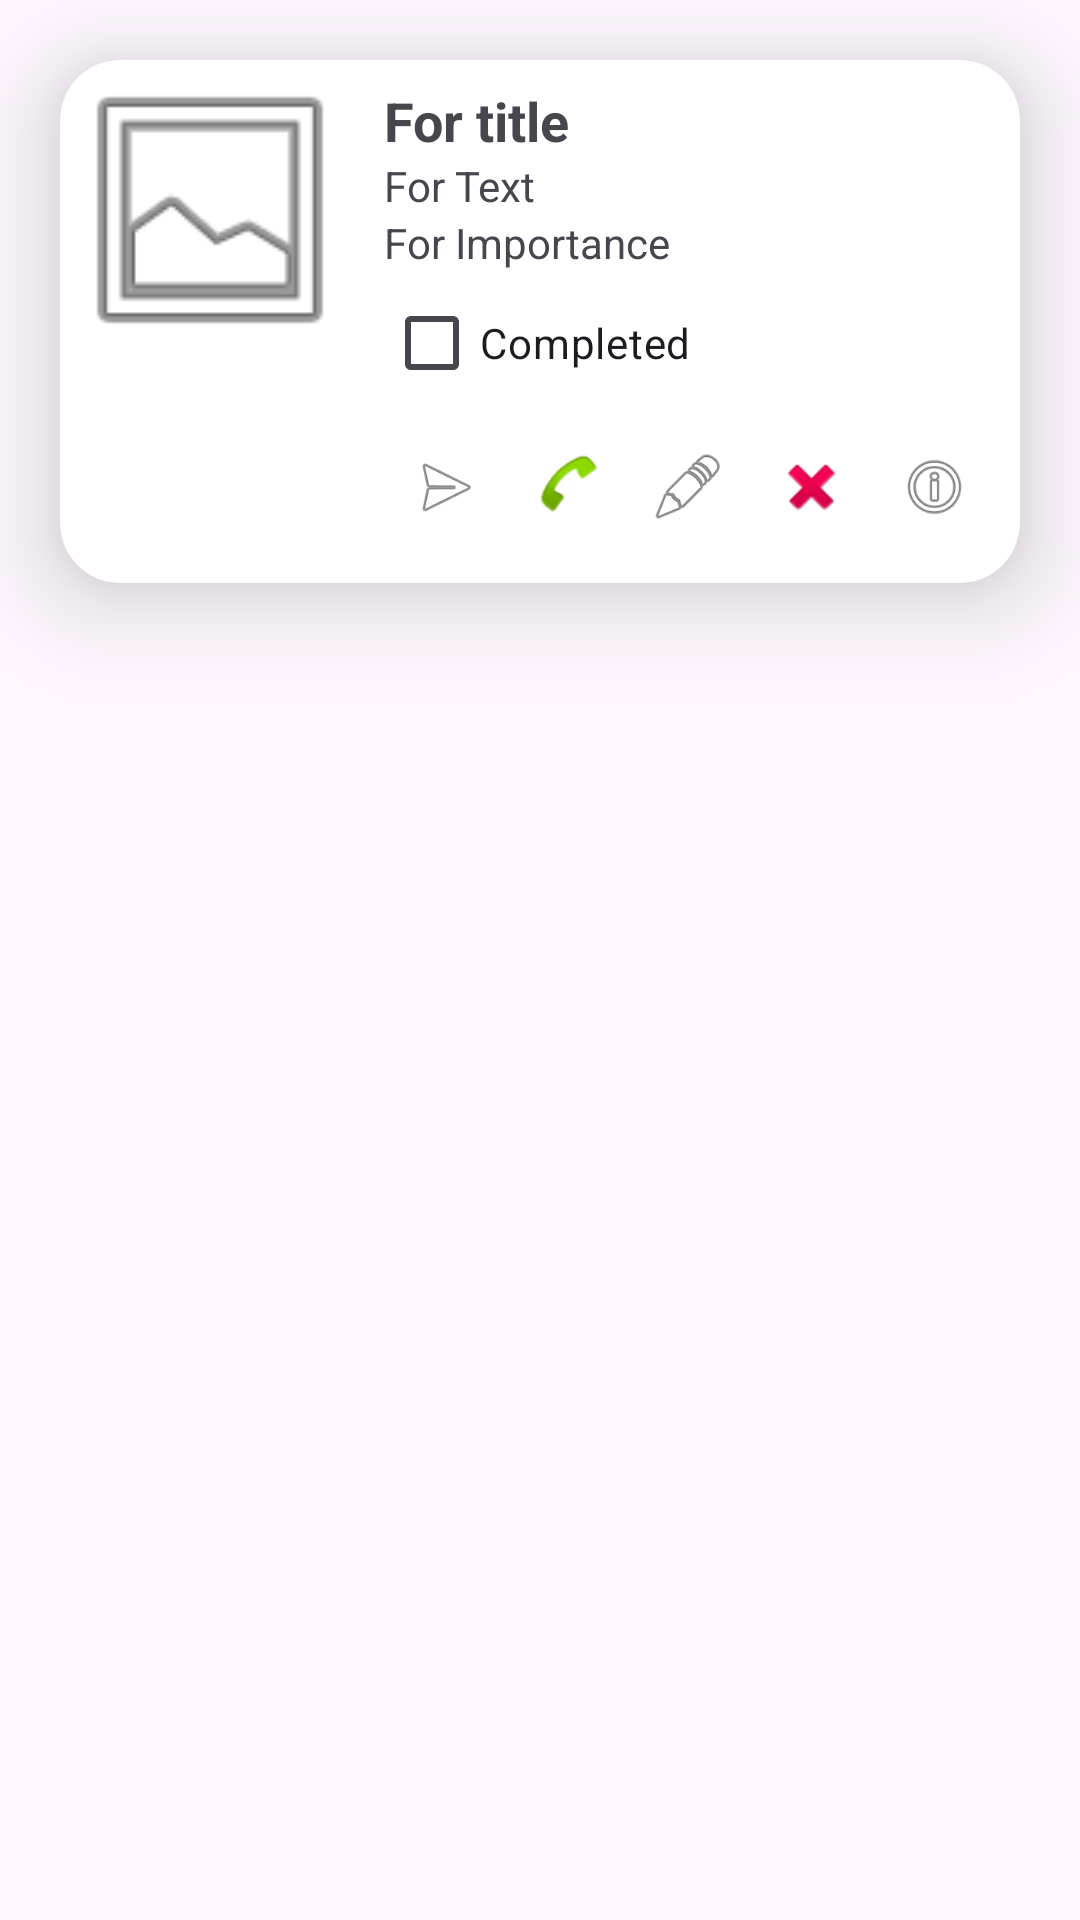

Point at icon controls on the screen. Image size 1080px×1920px, points as point (x, y).
delete: point (811, 487)
edit: point (687, 486)
gallery: point (210, 210)
send: point (446, 487)
sym action call: point (569, 483)
